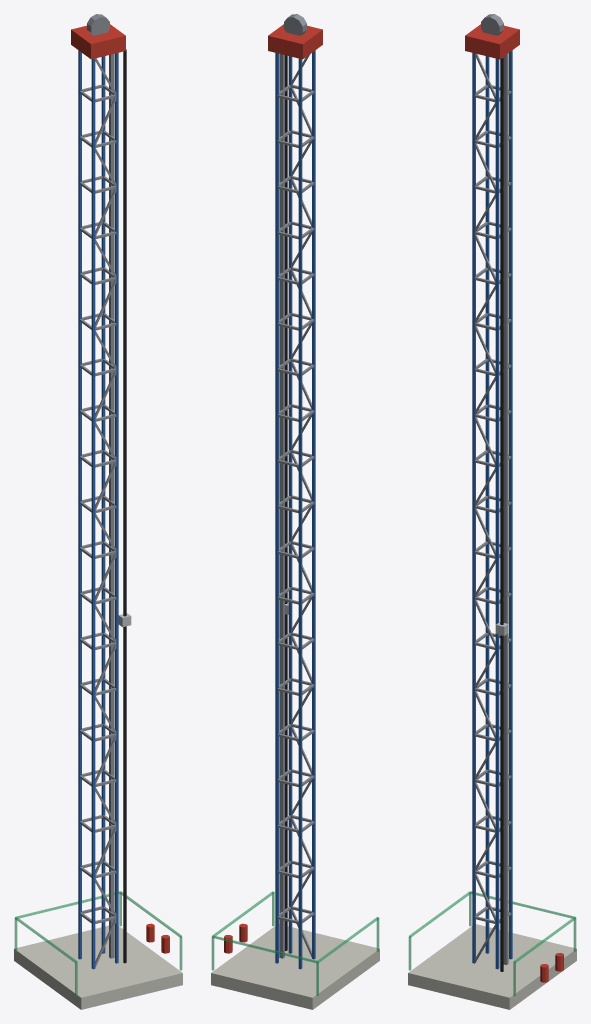
The model's file is hoist.glb.
3 views of the same model, side by side, from view 1: azimuth 30°, elevation 25°; view 2: azimuth 150°, elevation 25°; view 3: azimuth 330°, elevation 25° (orthographic).
Visible parts, largest first — view 1: Hoist; view 2: Hoist; view 3: Hoist.
Boxes of the visible parts, x1=… form: Hoist: x1=14, y1=14, x2=182, y2=1009; Hoist: x1=211, y1=14, x2=379, y2=1009; Hoist: x1=408, y1=14, x2=576, y2=1009.
Size of the model in its own units: 4.01 by 31.46 by 4.
